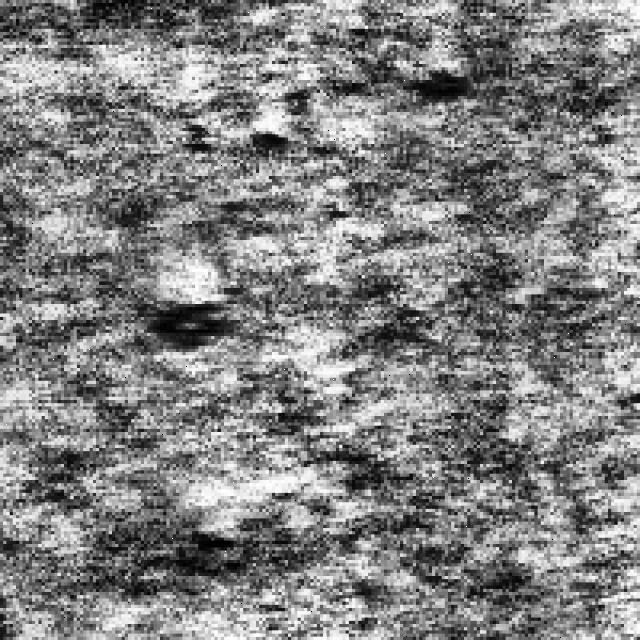Crazing: (163, 61, 474, 148), (134, 266, 256, 356)
